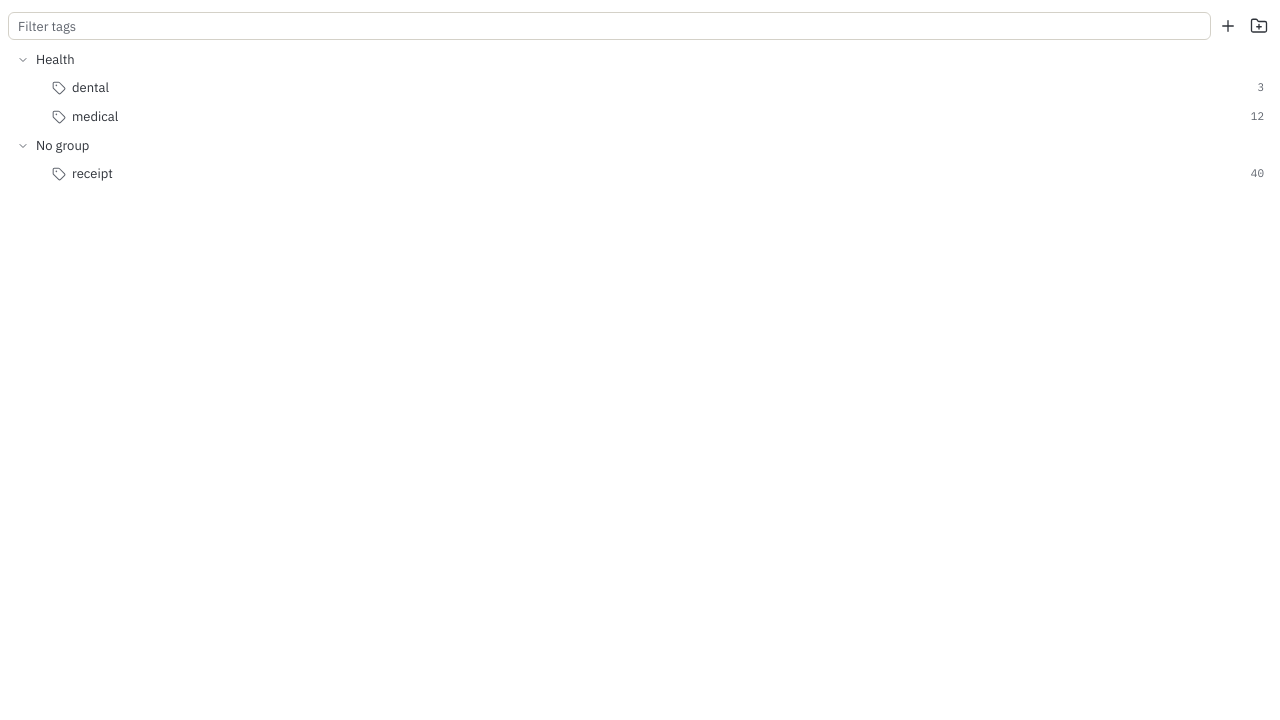
Test: TagTree › New group opens its sheet
The width and height of the screenshot is (1280, 720).
Click the button named "New group": [1259, 26] box [1245,12,1272,40]
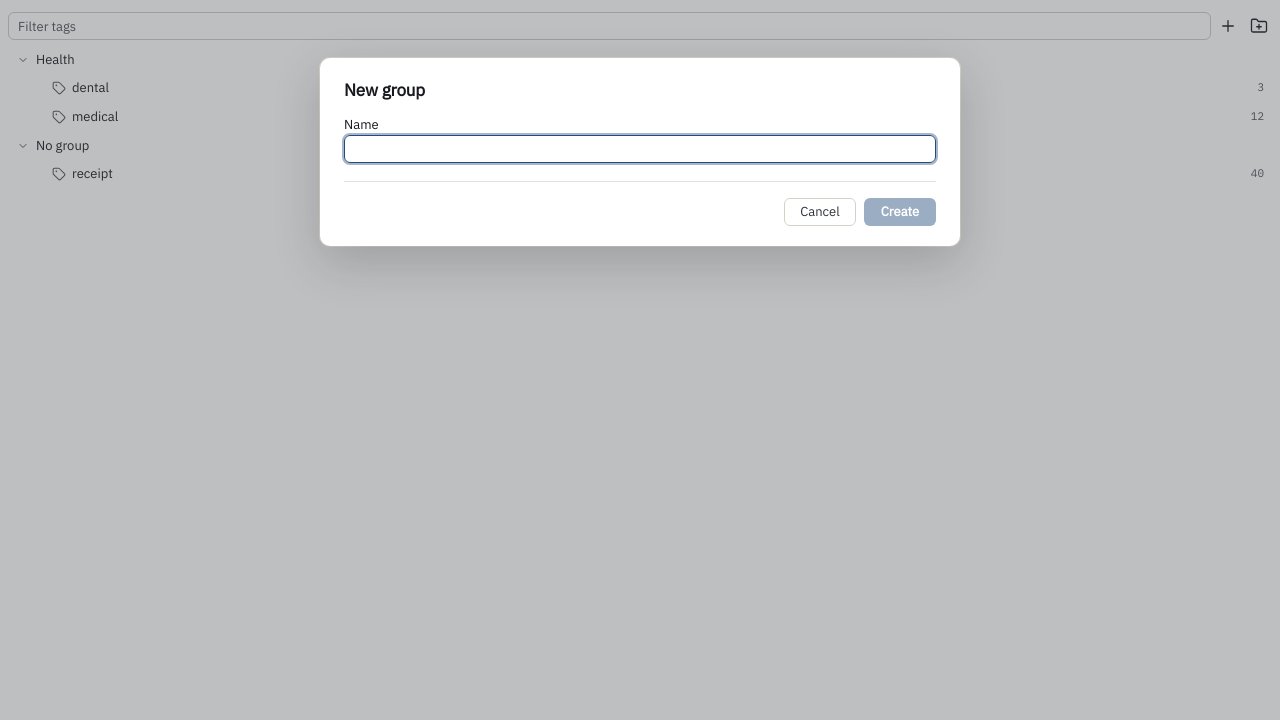
Expected: the dialog "New group" is shown, [320,58,960,246]
